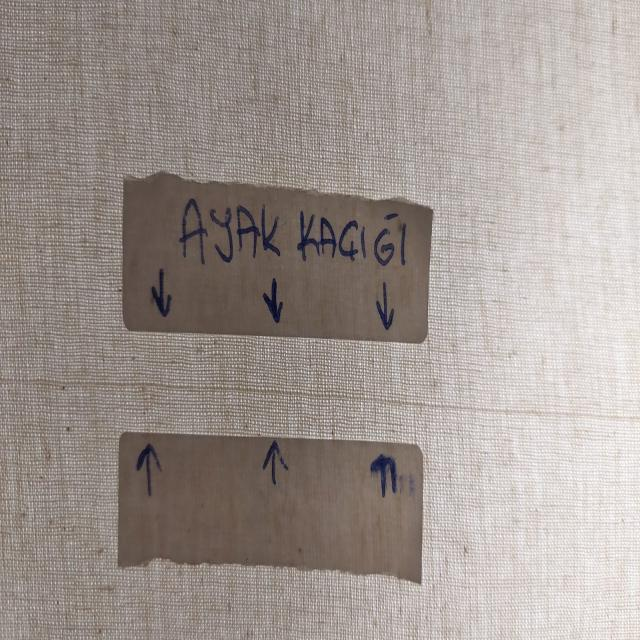stains: (6, 350, 640, 426)
